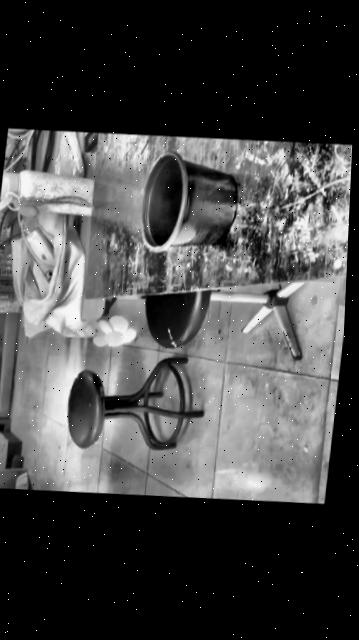pot: (135, 149, 239, 255)
